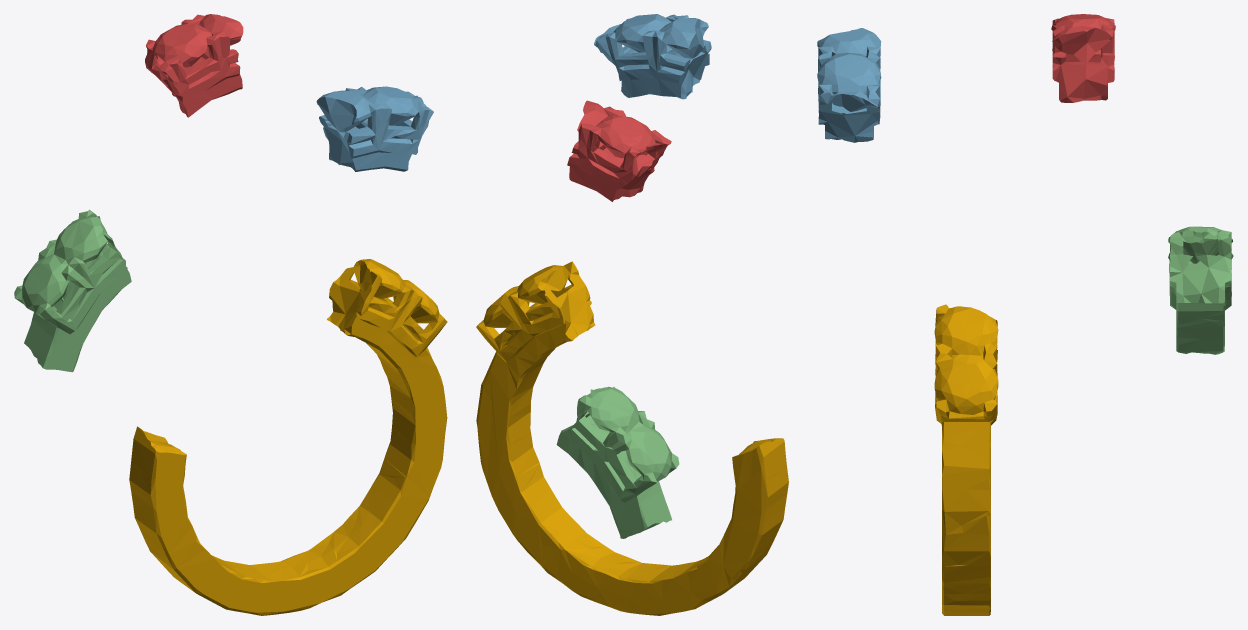
The model's file is fractured_53_4pcs_transformed.glb.
3 views of the same model, side by side, from view 1: azimuth 30°, elevation 25°; view 2: azimuth 150°, elevation 25°; view 3: azimuth 270°, elevation 25° (orthographic). The views are drawn at different scales.
Visible parts, largest first — view 1: piece_0.obj, piece_3.obj, piece_2.obj, piece_1.obj; view 2: piece_0.obj, piece_3.obj, piece_2.obj, piece_1.obj; view 3: piece_0.obj, piece_3.obj, piece_2.obj, piece_1.obj.
Part boxes in pixels (x1,y1,x2,y2): piece_0.obj: (129,259,447,615); piece_3.obj: (14,209,131,372); piece_2.obj: (316,86,433,171); piece_1.obj: (145,14,243,117); piece_0.obj: (476,261,788,615); piece_3.obj: (556,386,679,538); piece_2.obj: (594,14,711,99); piece_1.obj: (567,100,671,201); piece_0.obj: (934,304,998,615); piece_3.obj: (1168,226,1233,354); piece_2.obj: (817,28,881,142); piece_1.obj: (1051,14,1115,102).
Bounding box in the file's own units: 0.91 × 1.6 × 1.07.
